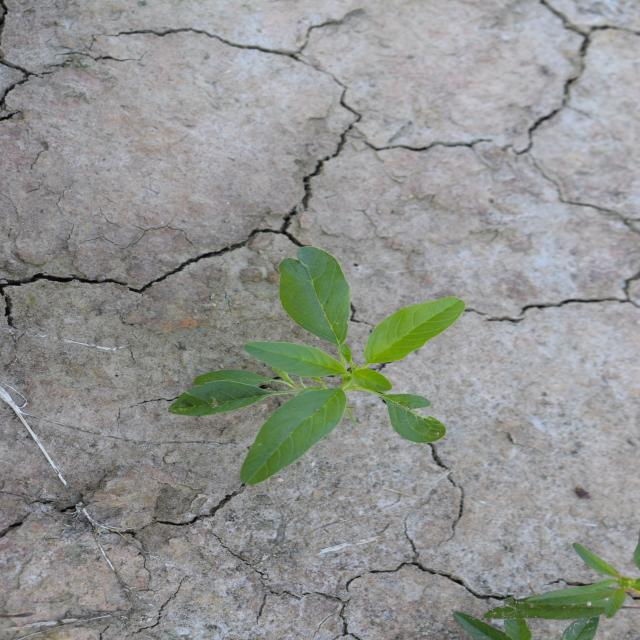Waterhemp: (164, 244, 468, 488), (446, 542, 639, 639)
